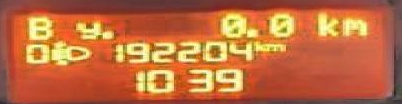-: (98, 27, 116, 38), (244, 25, 258, 36)
0: (265, 11, 294, 37), (145, 67, 174, 92), (218, 11, 244, 37), (20, 41, 47, 63), (200, 40, 225, 61)
1: (131, 67, 145, 92), (111, 41, 122, 62)
2: (173, 39, 200, 62), (149, 39, 173, 62)
3: (185, 66, 211, 92)
4: (227, 40, 251, 61)
9: (214, 67, 243, 92), (122, 39, 147, 62)
X: (23, 13, 54, 38), (313, 8, 338, 37), (338, 16, 367, 35), (73, 19, 98, 40), (265, 41, 285, 52), (251, 38, 265, 52)
